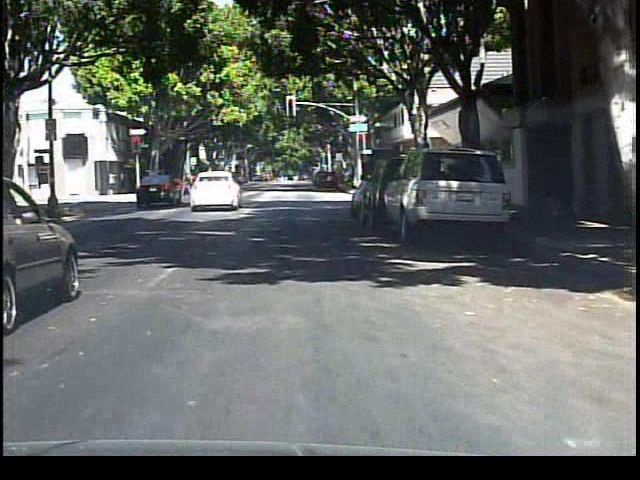person: (179, 165, 204, 204)
